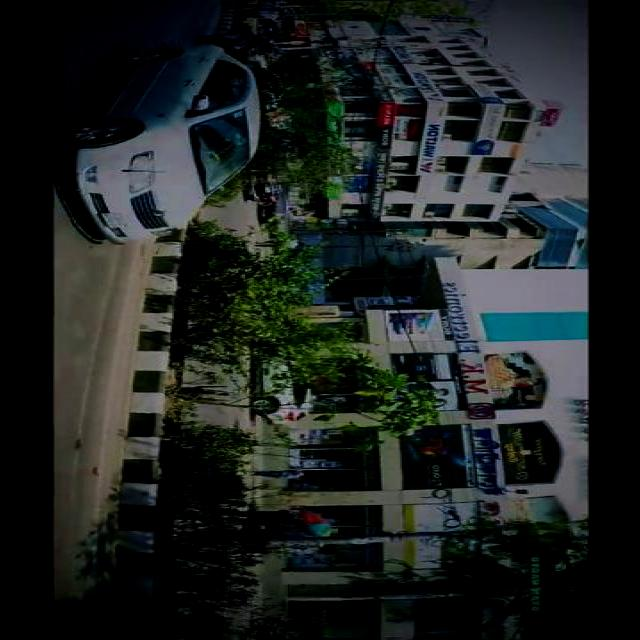car: (82, 45, 264, 248), (260, 345, 314, 423), (250, 162, 296, 205)
motorcycle: (207, 36, 253, 53)
